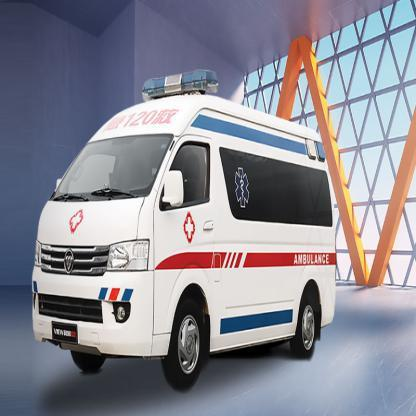Ambulance - v1 Ambulance last generate: (28, 65, 340, 394)
